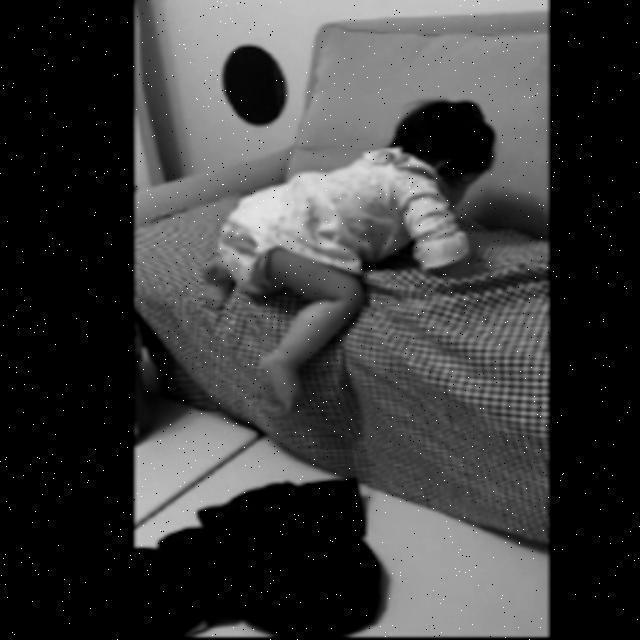child: (209, 96, 486, 421)
